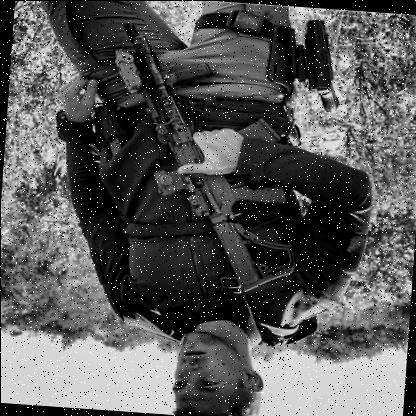rifle: (100, 17, 318, 298), (299, 17, 351, 112)
